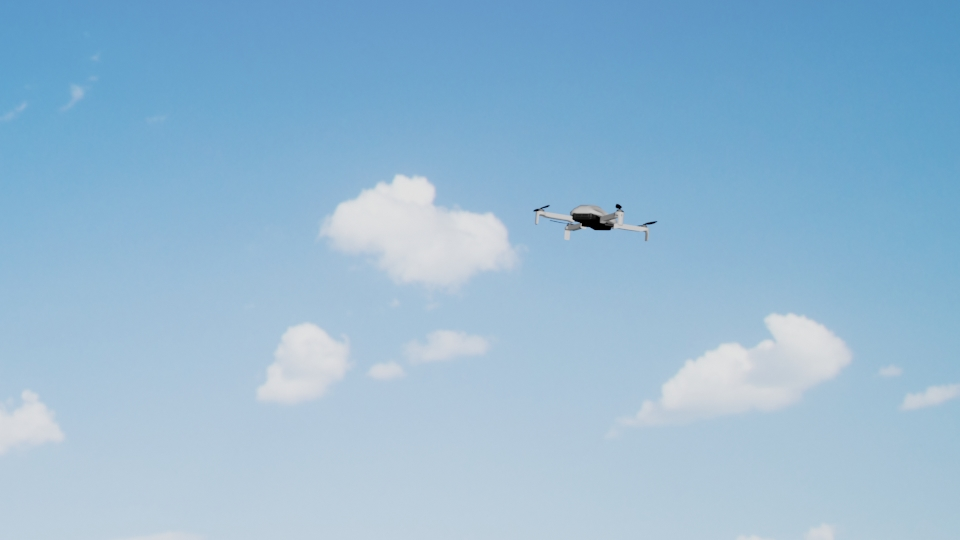drone: (531, 201, 659, 240)
